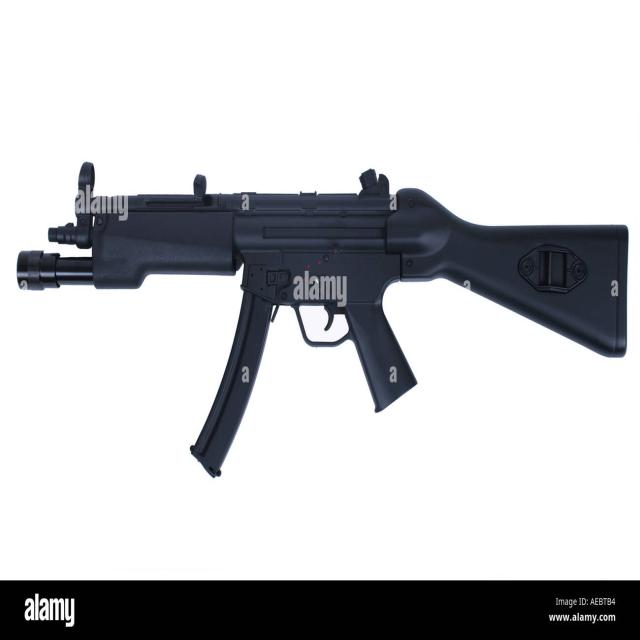SMG: (16, 162, 631, 480)
